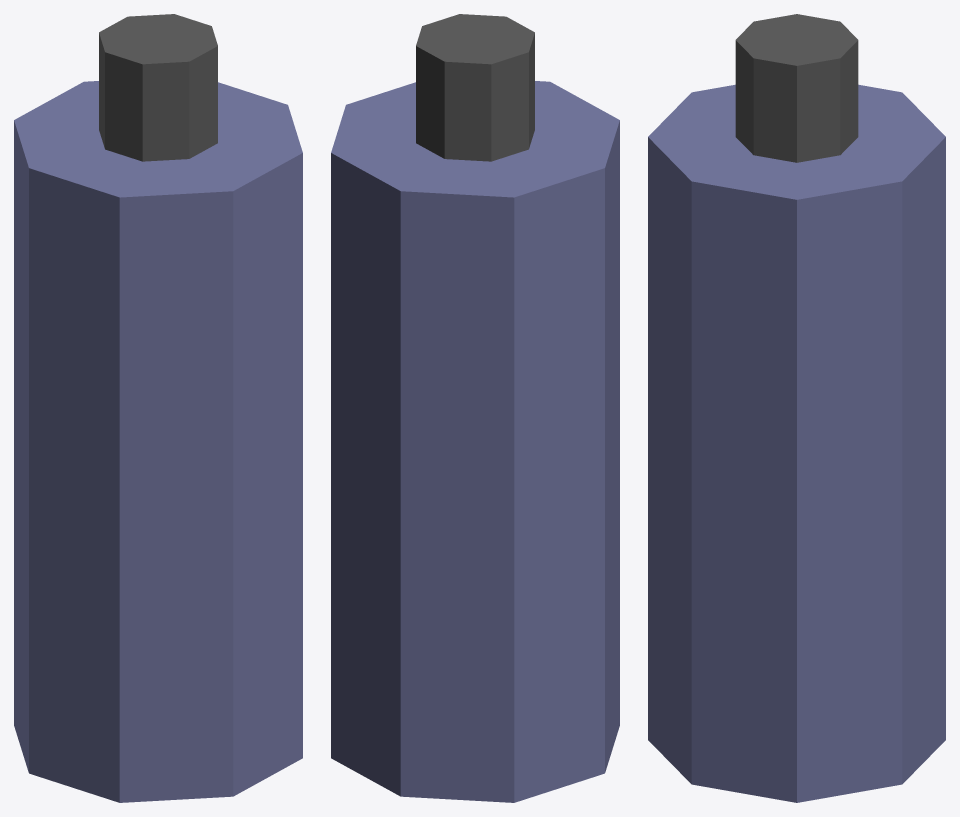
The model's file is Bottle_8.fbx.
3 views of the same model, side by side, from view 1: azimuth 30°, elevation 25°; view 2: azimuth 150°, elevation 25°; view 3: azimuth 270°, elevation 25° (orthographic).
Visible parts, largest first — view 1: Bottle_8; view 2: Bottle_8; view 3: Bottle_8.
Boxes of the visible parts, <box> form: Bottle_8: <box>14,14,302,802</box>; Bottle_8: <box>331,14,619,802</box>; Bottle_8: <box>648,14,945,802</box>.
Bounding box in the file's own units: 12.72 × 12.72 × 32.96.
